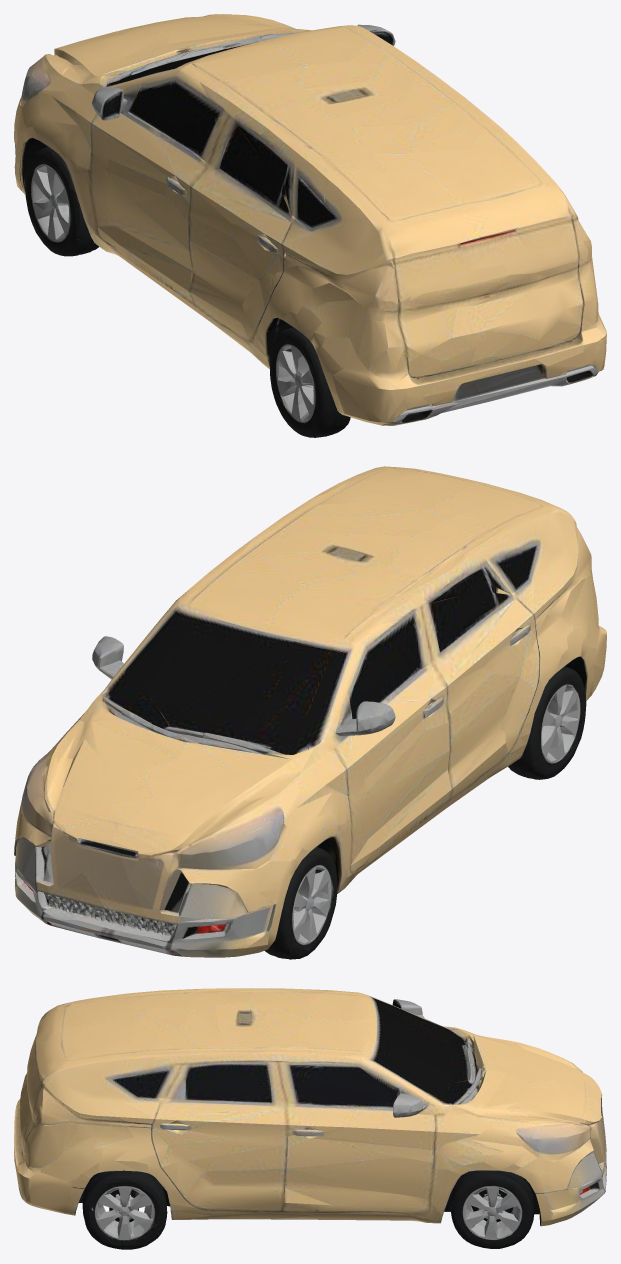
The model's file is teleopVehSedan.431efea6.glb.
3 views of the same model, one above another, from view 1: azimuth 30°, elevation 25°; view 2: azimuth 150°, elevation 25°; view 3: azimuth 270°, elevation 25° (orthographic). The views are drawn at different scales.
Visible parts, largest first — view 1: output_unwrapped; view 2: output_unwrapped; view 3: output_unwrapped.
Part boxes in pixels (x1,y1,x2,y2): output_unwrapped: (14,14,606,437); output_unwrapped: (14,466,606,959); output_unwrapped: (14,988,606,1249).
Bounding box in the file's own units: 0.8144 × 0.6568 × 1.9.
Materials: 1 (1 with a texture image).
